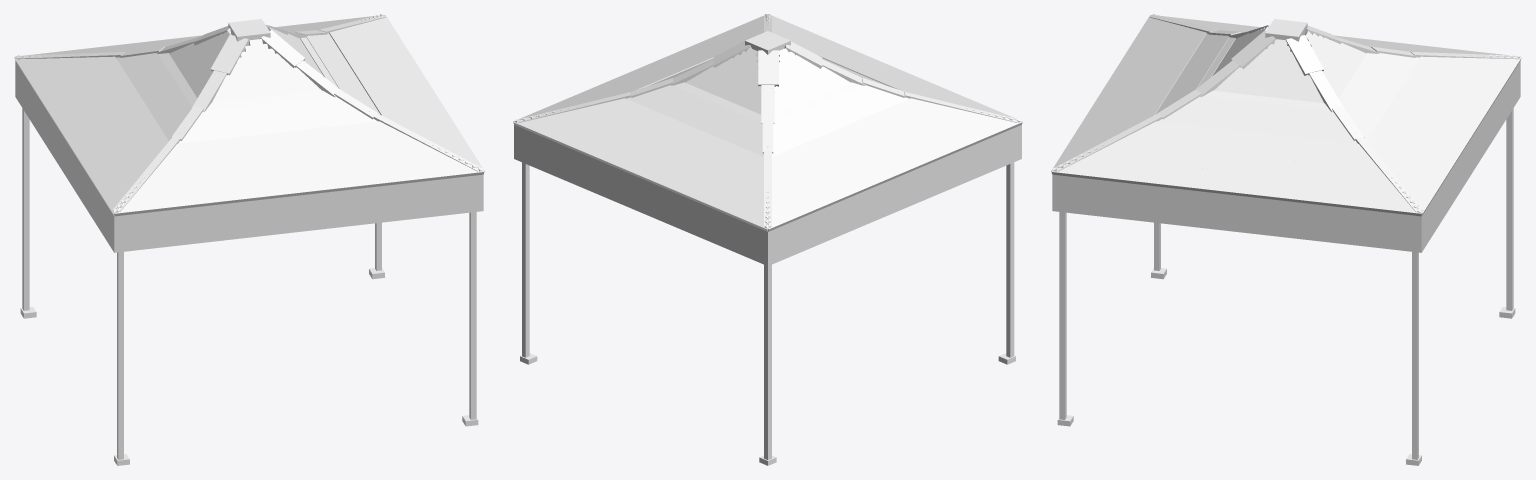
The model's file is tent_blue_baituan_y75.obj.
The picture shows the model from 3 angles, left to right: view 1: azimuth 30°, elevation 25°; view 2: azimuth 150°, elevation 25°; view 3: azimuth 270°, elevation 25°; orthographic projection. The views are drawn at different scales.
Visible parts, largest first — view 1: text2, text1, cube1.005, cube2.005, stem3, cube3.005, cube4.005, stem2, cube5.001, cube6.001, stem1, cube7.001 (+61 smaller); view 2: text0, text1, cube1.003, cube1.006, stem1, stem2, stem4, cube2.003, cube2.006, cube3.003, cube3.006, cube4.003 (+44 smaller); view 3: text3, text0, cube1.004, cube2.004, stem3, cube3.004, cube4.004, stem2, cube5.000, cube6.000, stem4, cube7.000 (+61 smaller).
Boxes of the visible parts, left/top/right/bottom form: text2: left=112, top=174, right=483, bottom=252; text1: left=16, top=63, right=112, bottom=249; cube1.005: left=113, top=168, right=483, bottom=216; cube2.005: left=117, top=164, right=476, bottom=208; stem3: left=469, top=212, right=476, bottom=419; cube3.005: left=121, top=161, right=469, bottom=204; cube4.005: left=125, top=158, right=462, bottom=199; stem2: left=22, top=108, right=29, bottom=310; cube5.001: left=130, top=154, right=455, bottom=194; cube6.001: left=134, top=151, right=448, bottom=189; stem1: left=117, top=252, right=123, bottom=459; cube7.001: left=138, top=147, right=440, bottom=185; text0: left=514, top=125, right=771, bottom=265; text1: left=772, top=126, right=1017, bottom=264; cube1.003: left=764, top=119, right=1022, bottom=233; cube1.006: left=513, top=119, right=771, bottom=233; stem1: left=1006, top=162, right=1014, bottom=357; stem2: left=764, top=264, right=771, bottom=459; stem4: left=522, top=162, right=529, bottom=357; cube2.003: left=765, top=117, right=1014, bottom=224; cube2.006: left=521, top=117, right=770, bottom=224; cube3.003: left=765, top=116, right=1007, bottom=219; cube3.006: left=528, top=116, right=770, bottom=219; cube4.003: left=766, top=114, right=999, bottom=214; text3: left=1058, top=175, right=1415, bottom=252; text0: left=1416, top=62, right=1520, bottom=252; cube1.004: left=1052, top=168, right=1422, bottom=216; cube2.004: left=1059, top=164, right=1418, bottom=208; stem3: left=1059, top=212, right=1066, bottom=419; cube3.004: left=1066, top=161, right=1414, bottom=204; cube4.004: left=1073, top=158, right=1410, bottom=199; stem2: left=1506, top=108, right=1513, bottom=310; cube5.000: left=1080, top=154, right=1405, bottom=194; cube6.000: left=1087, top=151, right=1401, bottom=189; stem4: left=1412, top=252, right=1418, bottom=459; cube7.000: left=1095, top=147, right=1397, bottom=185.
Size of the model in its own units: 4.57 by 3.66 by 4.57.
